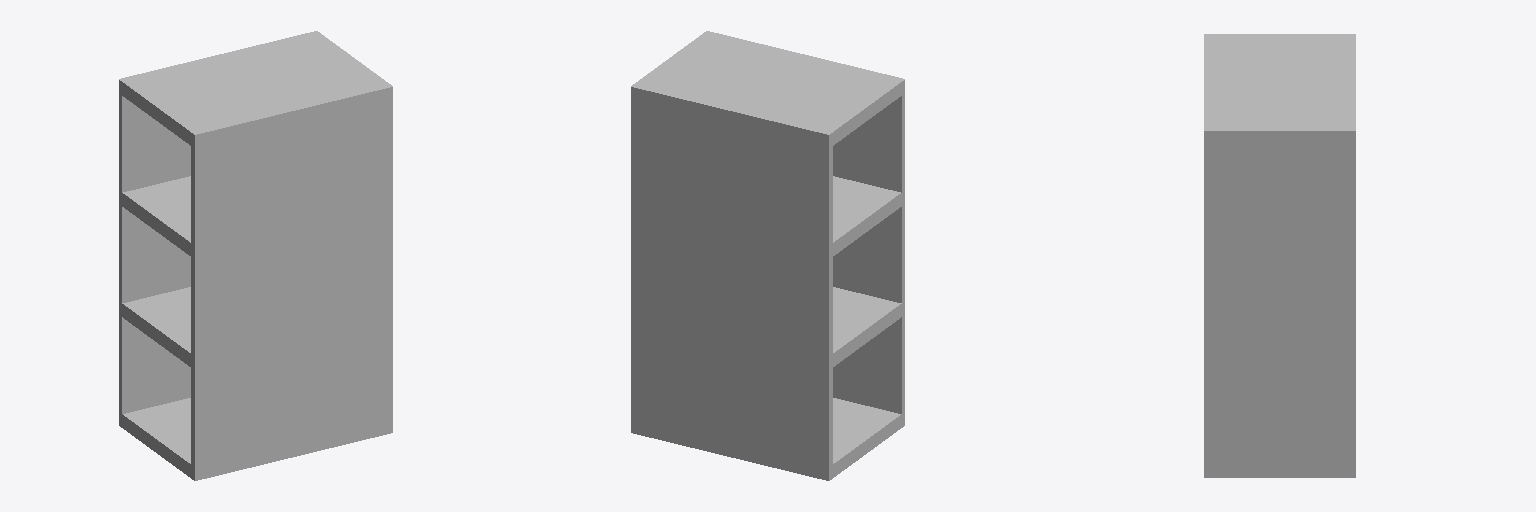
File: cabinet.obj
3 renders of one model, left to right at view 1: azimuth 30°, elevation 25°; view 2: azimuth 150°, elevation 25°; view 3: azimuth 270°, elevation 25°, orthographic.
Visible parts, largest first — view 1: filing_cabinate:pCube8 group5; view 2: filing_cabinate:pCube8 group5; view 3: filing_cabinate:pCube8 group5.
Part boxes in pixels (left/top/right/bottom): filing_cabinate:pCube8 group5: left=119, top=31, right=392, bottom=480; filing_cabinate:pCube8 group5: left=631, top=31, right=904, bottom=480; filing_cabinate:pCube8 group5: left=1204, top=34, right=1355, bottom=477.
Size of the model in its own units: 7.5 by 12.5 by 5.